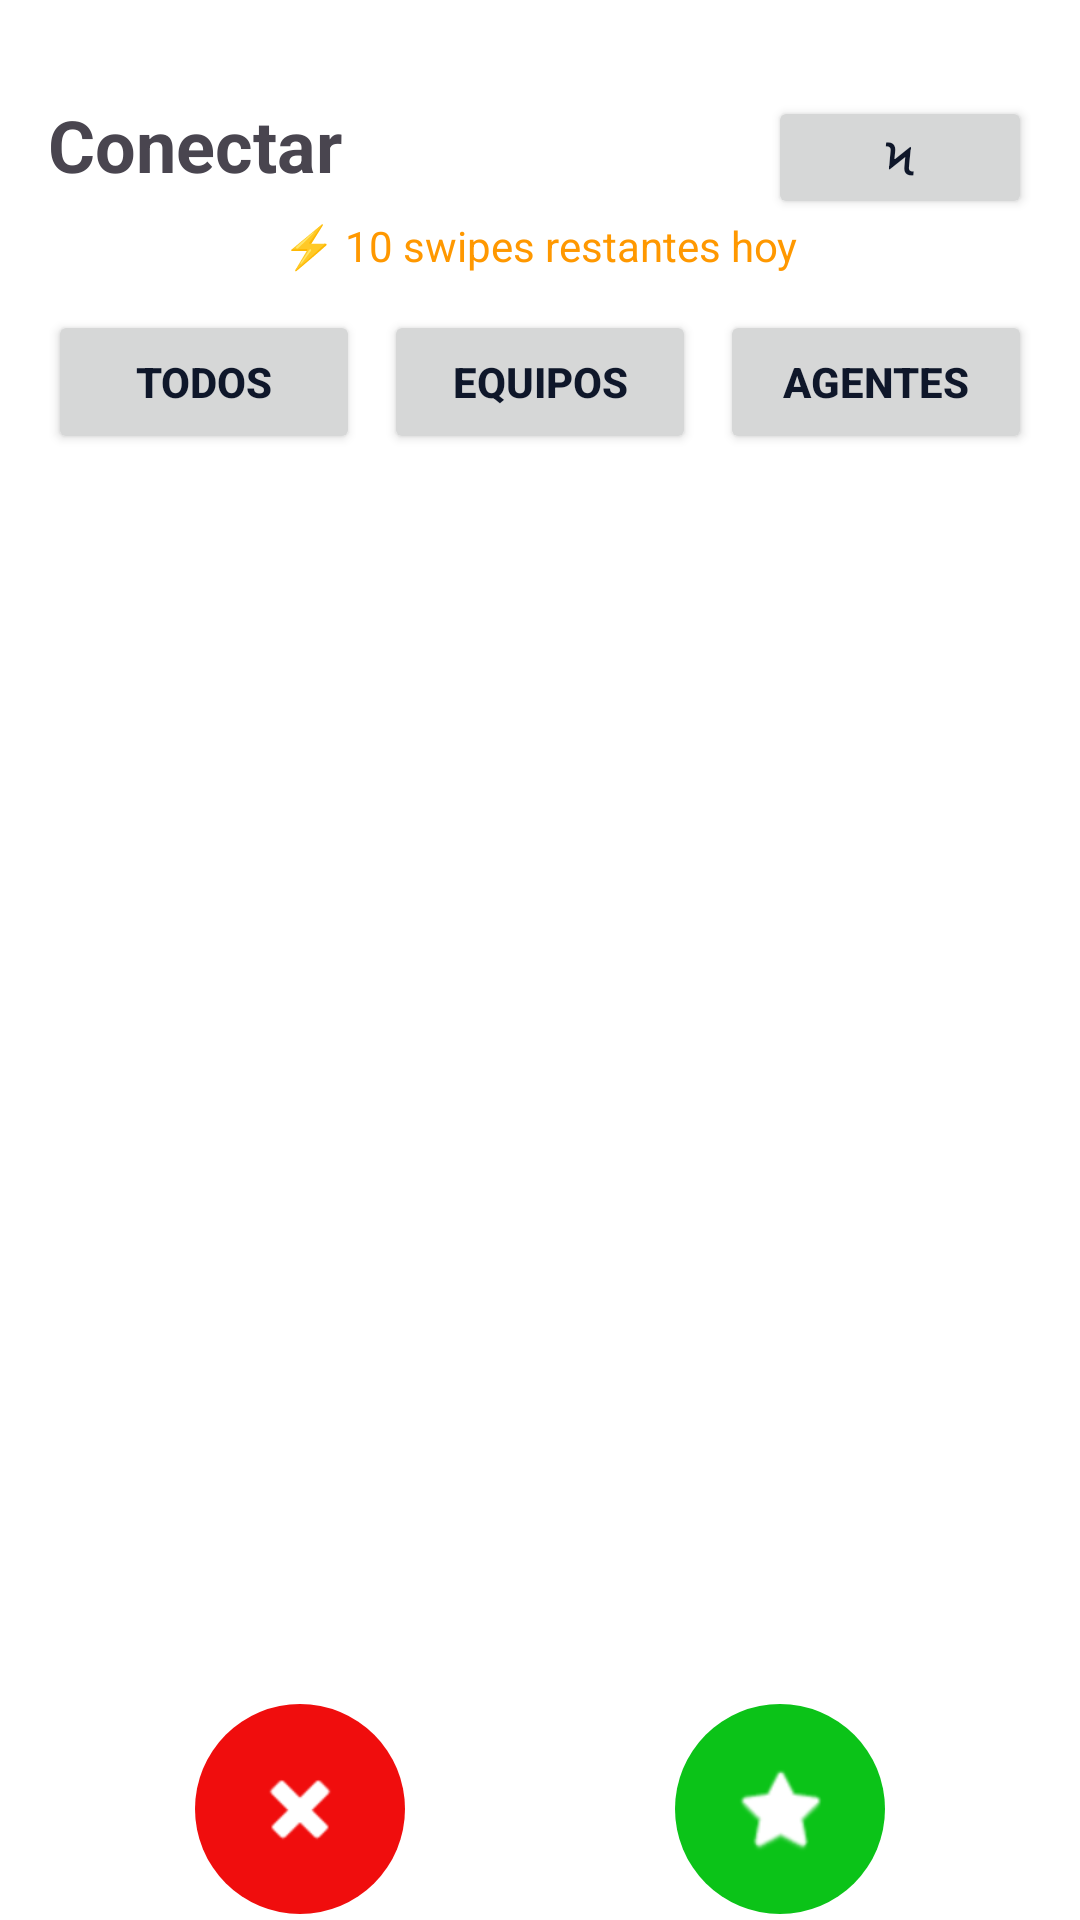

Point at icon controls on the screen. Image size 1080 × 1920, points as point (x, y).
Me gusta: point (780, 1809)
No me gusta: point (300, 1809)
